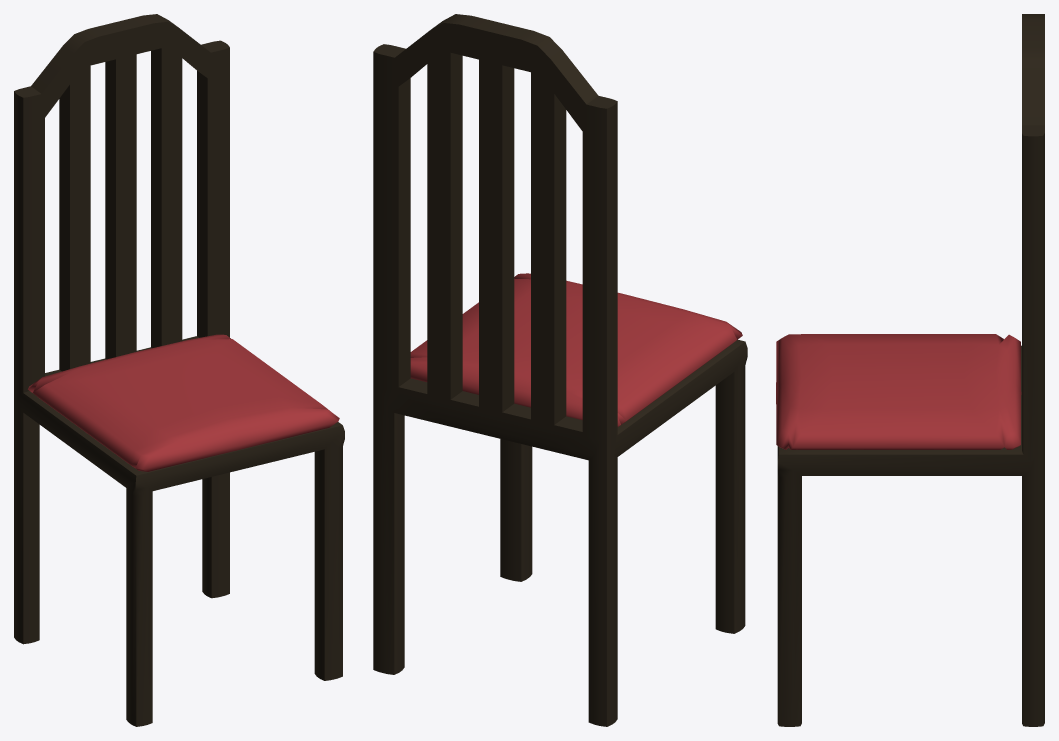
Rendered from PROJECT DREAM - Bedroom - Chair.fbx.
The picture shows the model from 3 angles, left to right: view 1: azimuth 30°, elevation 25°; view 2: azimuth 150°, elevation 25°; view 3: azimuth 270°, elevation 25°; orthographic projection. The views are drawn at different scales.
Parts seen in each view (by area): view 1: Bedroom - Chair; view 2: Bedroom - Chair; view 3: Bedroom - Chair.
Boxes of the visible parts, bbox=[...] form: Bedroom - Chair: bbox=[14, 14, 344, 726]; Bedroom - Chair: bbox=[373, 14, 747, 726]; Bedroom - Chair: bbox=[776, 14, 1044, 726].
Bounding box in the file's own units: 76.63 × 206 × 78.91.
